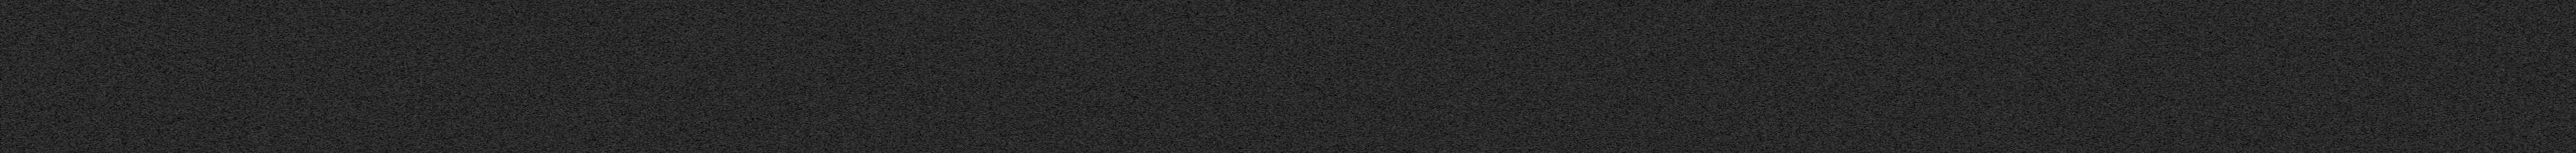wv_am: (202, 0, 205, 56), (202, 90, 205, 138), (202, 56, 205, 74), (202, 138, 205, 153), (202, 81, 205, 87), (202, 76, 205, 81), (202, 89, 205, 90)
wv_cw: (71, 0, 74, 153), (1687, 0, 1690, 153)
wv_lsb: (2433, 15, 2441, 54), (2433, 115, 2441, 133), (2435, 0, 2441, 15), (2438, 54, 2441, 76), (2436, 87, 2441, 95), (2438, 140, 2441, 143)
wv_usb: (1674, 0, 1684, 153), (1628, 0, 1638, 109), (2305, 31, 2315, 112), (1628, 117, 1638, 153), (2305, 0, 2313, 23), (2305, 130, 2315, 145), (2305, 146, 2311, 153), (1628, 109, 1631, 117), (2305, 123, 2308, 128), (2305, 112, 2308, 115), (2305, 23, 2308, 26), (2305, 117, 2308, 118), (2305, 28, 2308, 30)
wv_wbfm: (856, 0, 1262, 153), (1833, 0, 2118, 153), (1265, 122, 1275, 125), (851, 122, 856, 127), (849, 33, 858, 35), (841, 33, 849, 35), (838, 123, 843, 125), (1280, 123, 1283, 125), (1262, 122, 1263, 125)
